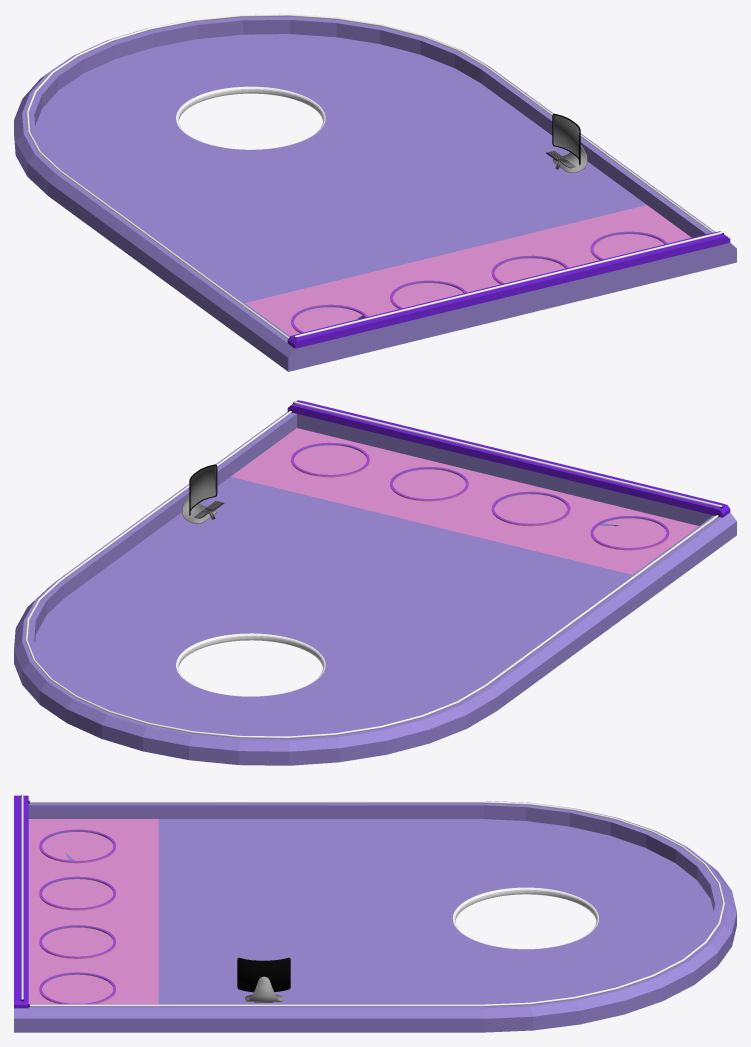
Rendered from 4HolePlatform.fbx.
3 views of the same model, one above another, from view 1: azimuth 30°, elevation 25°; view 2: azimuth 150°, elevation 25°; view 3: azimuth 270°, elevation 25° (orthographic). The views are drawn at different scales.
Visible parts, largest first — view 1: 4HolePlatform, Bilgisayar; view 2: 4HolePlatform, Bilgisayar; view 3: 4HolePlatform, Bilgisayar.
Boxes of the visible parts, x1=… form: 4HolePlatform: x1=14, y1=14, x2=736, y2=371; Bilgisayar: x1=546, y1=113, x2=587, y2=172; 4HolePlatform: x1=14, y1=400, x2=736, y2=765; Bilgisayar: x1=182, y1=464, x2=224, y2=523; 4HolePlatform: x1=14, y1=794, x2=736, y2=1032; Bilgisayar: x1=237, y1=957, x2=290, y2=1002.
Bounding box in the file's own units: 2504 × 298 × 3576.
